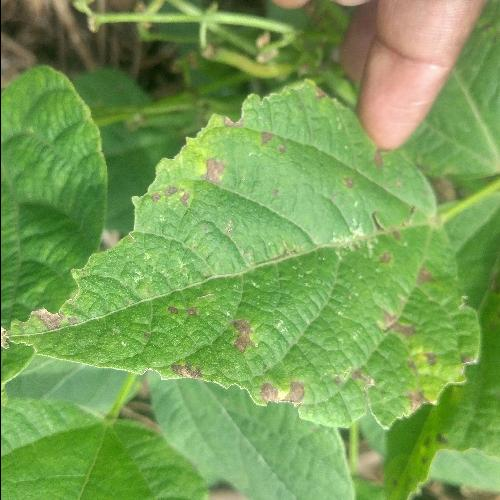embun tepung: (117, 212, 257, 308), (276, 202, 370, 310), (326, 320, 362, 352), (329, 116, 347, 154)
hawar: (408, 249, 449, 294), (229, 311, 262, 366), (250, 378, 314, 406), (188, 147, 222, 194), (10, 306, 70, 332), (378, 308, 414, 347), (166, 352, 204, 384), (246, 126, 278, 158), (367, 152, 390, 175), (402, 396, 430, 414), (332, 174, 356, 194)
